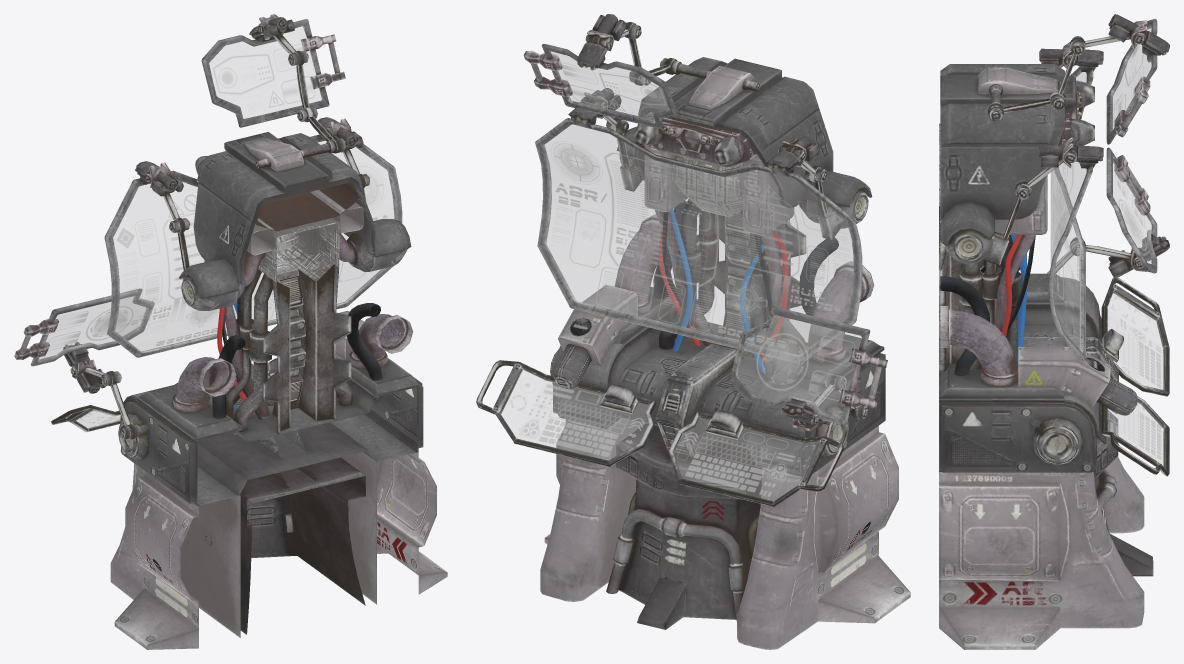
Rendered from Holo.glb.
3 views of the same model, side by side, from view 1: azimuth 30°, elevation 25°; view 2: azimuth 150°, elevation 25°; view 3: azimuth 270°, elevation 25° (orthographic). The views are drawn at different scales.
Visible parts, largest first — view 1: defaultMaterial (×2); view 2: defaultMaterial (×2); view 3: defaultMaterial (×2).
Part boxes in pixels (bbox=[...]): defaultMaterial (×2): bbox=[14, 14, 447, 649]; defaultMaterial (×2): bbox=[476, 14, 910, 649]; defaultMaterial (×2): bbox=[939, 14, 1169, 649].
Bounding box in the file's own units: 2.1 × 2.98 × 1.07.
2 materials, 2 textured.
